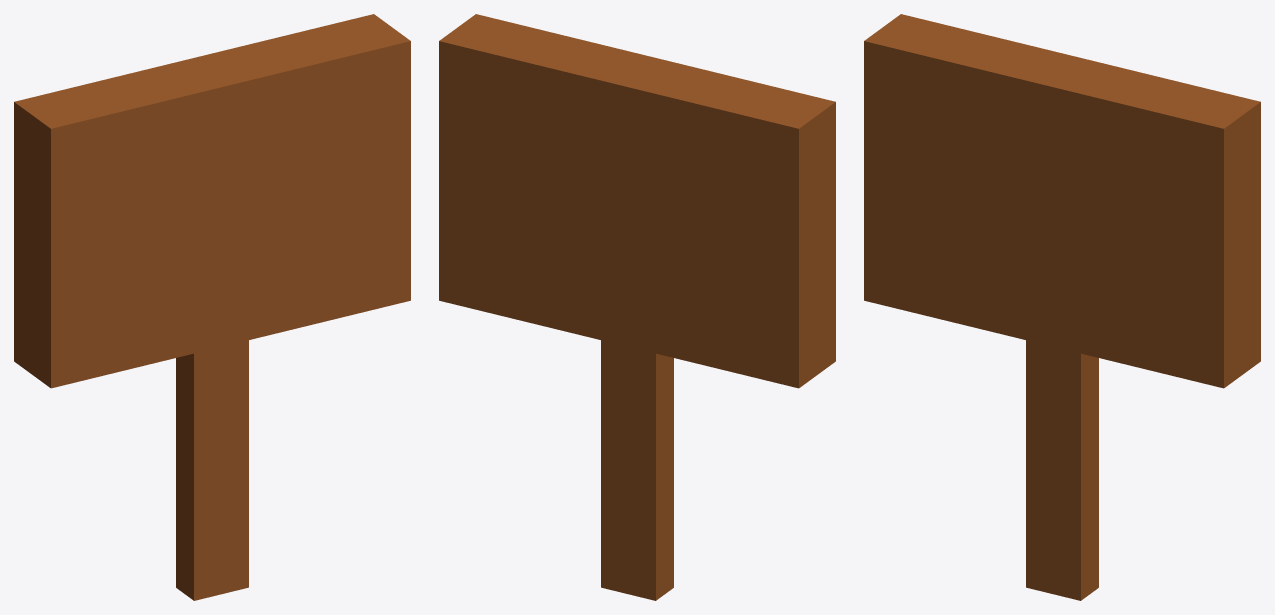
File: Sign.fbx
3 views of the same model, side by side, from view 1: azimuth 30°, elevation 25°; view 2: azimuth 150°, elevation 25°; view 3: azimuth 330°, elevation 25° (orthographic).
Visible parts, largest first — view 1: Cube.001, Cube; view 2: Cube.001, Cube; view 3: Cube.001, Cube.
Boxes of the visible parts, box(x1,y1,x2,y2) form: Cube.001: box(14, 14, 410, 388); Cube: box(176, 340, 248, 600); Cube.001: box(439, 14, 835, 388); Cube: box(601, 340, 673, 600); Cube.001: box(864, 14, 1260, 388); Cube: box(1026, 340, 1098, 600).
Bounding box in the file's own units: 290 × 398 × 51.62.
